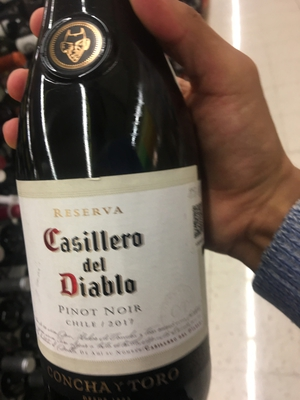casillero del diablo pinot noir: (12, 20, 236, 400)
